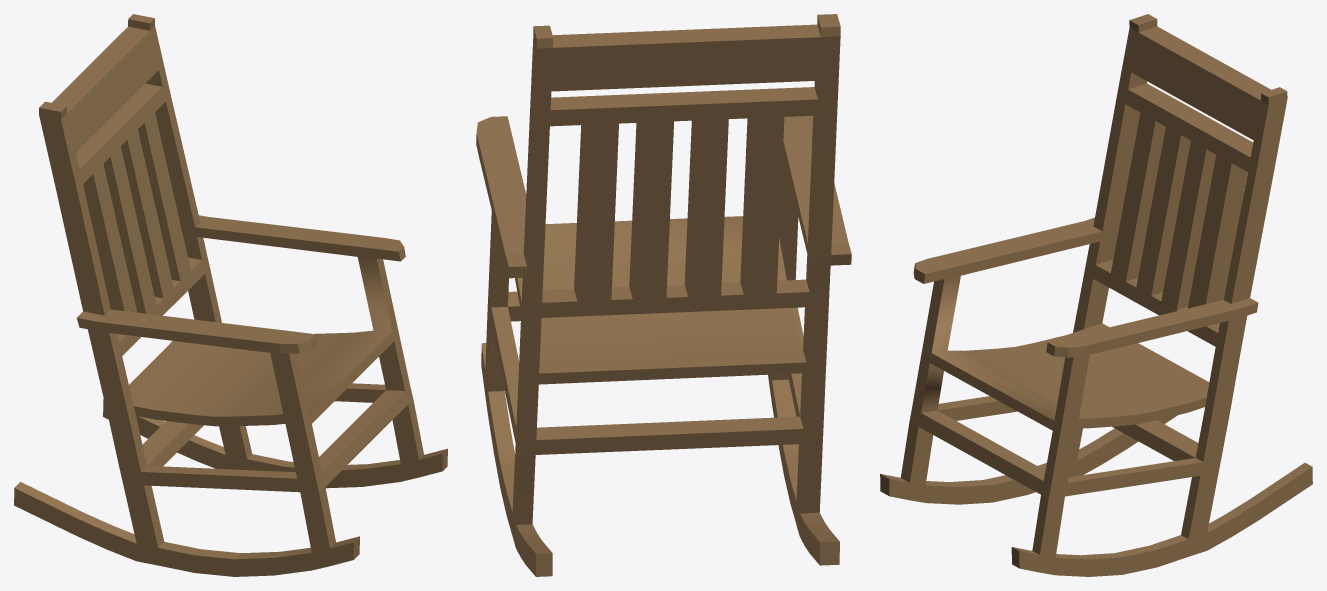
File: rockingChair.fbx
3 views of the same model, side by side, from view 1: azimuth 30°, elevation 25°; view 2: azimuth 150°, elevation 25°; view 3: azimuth 270°, elevation 25° (orthographic). The views are drawn at different scales.
Parts seen in each view (by area): view 1: rockingChair01; view 2: rockingChair01; view 3: rockingChair01.
Boxes of the visible parts, <box> form: rockingChair01: <box>14,14,447,576</box>; rockingChair01: <box>476,14,851,576</box>; rockingChair01: <box>880,14,1312,576</box>.
Bounding box in the file's own units: 4.83 × 5.72 × 5.16.
